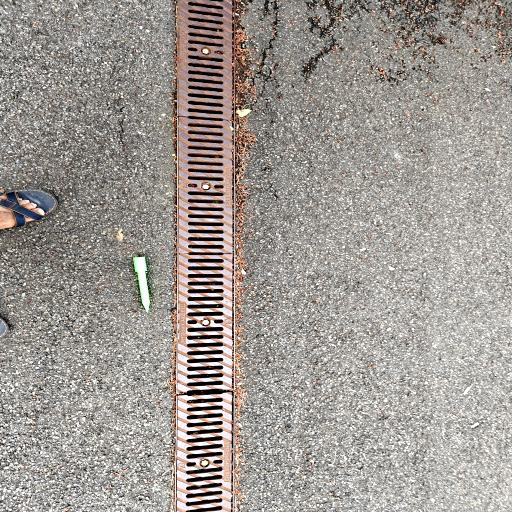Probe-Detection: (133, 256, 150, 312)
